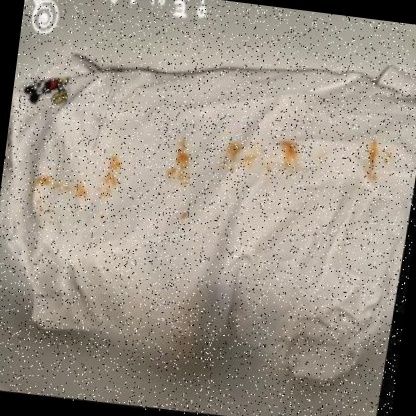kimchi: (28, 159, 122, 217), (214, 134, 313, 186), (159, 137, 202, 192), (361, 138, 398, 187), (99, 148, 130, 179), (172, 206, 193, 226)
